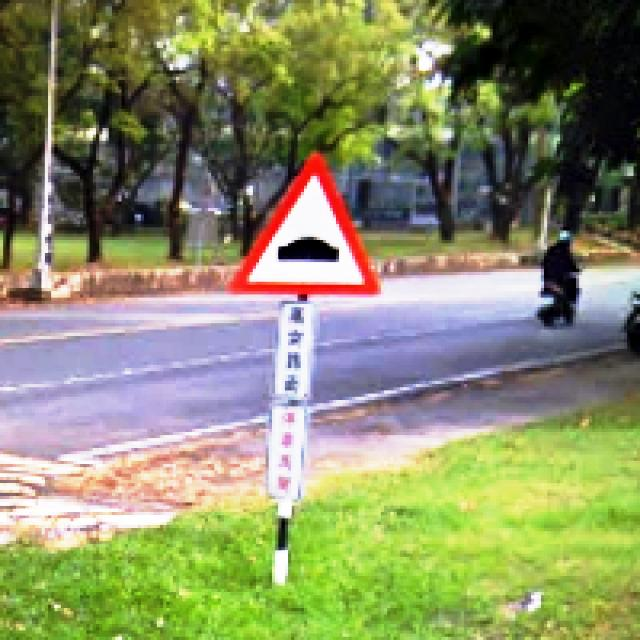hump: (230, 157, 381, 292)
